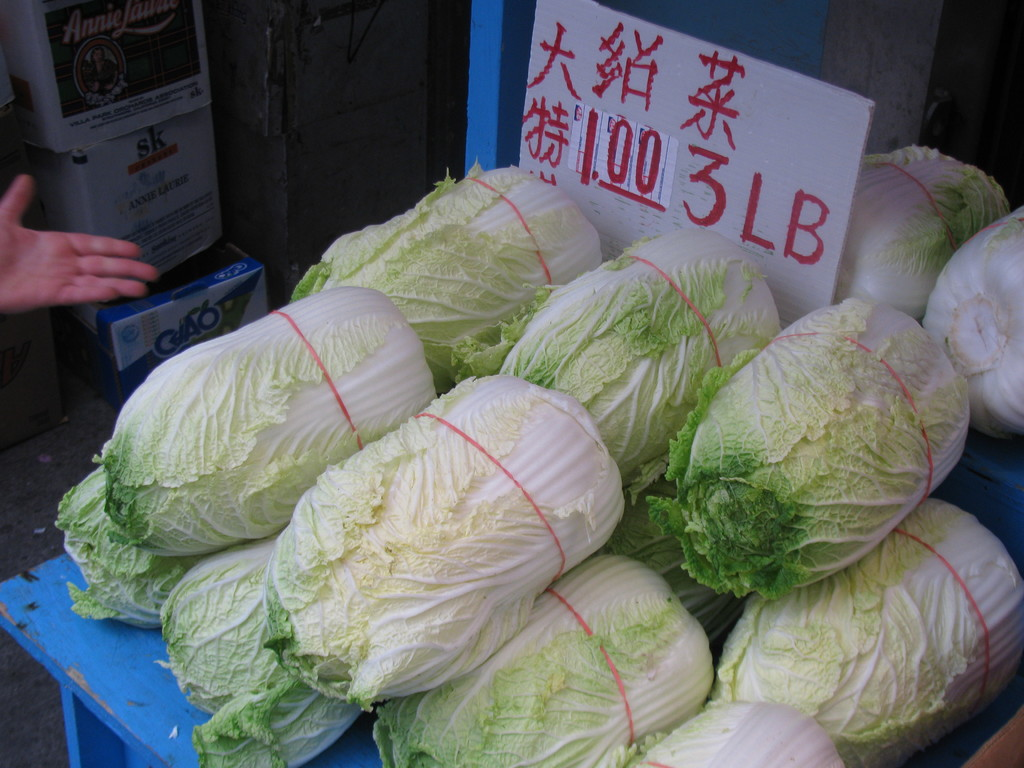Cabbage: (53, 144, 1023, 767)
